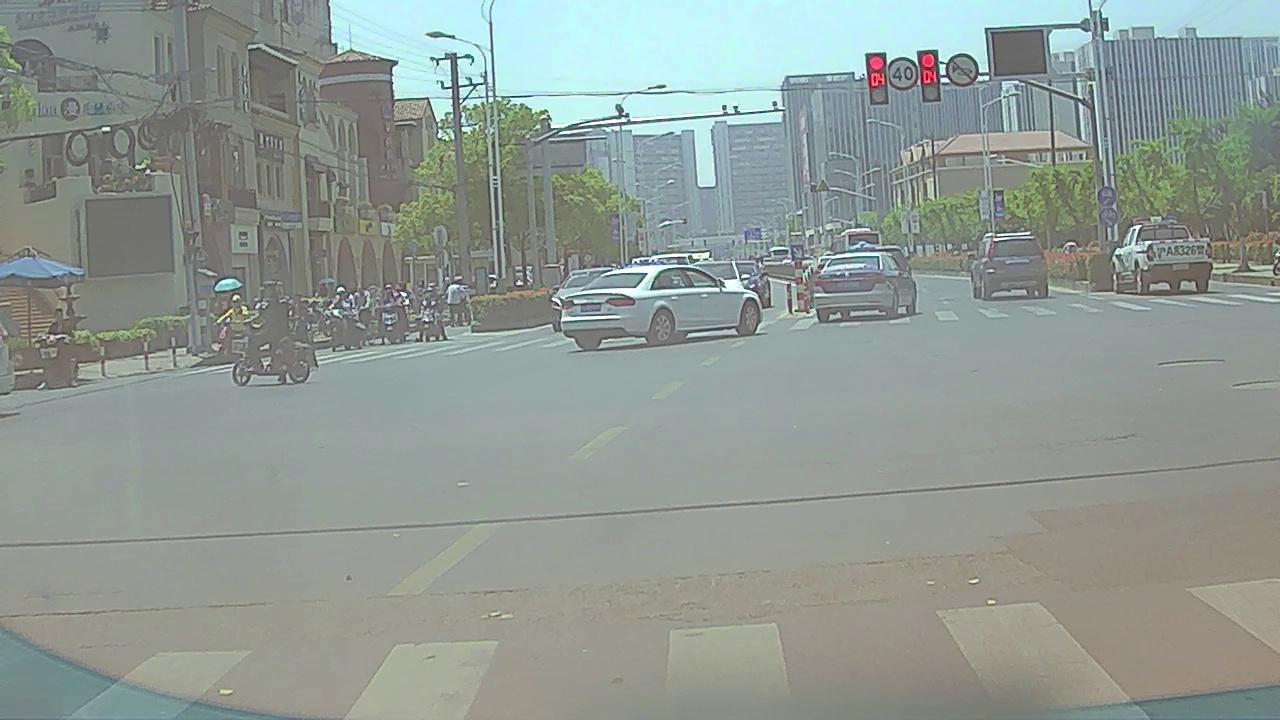traffic_light: (868, 53, 888, 103), (921, 50, 939, 102)
